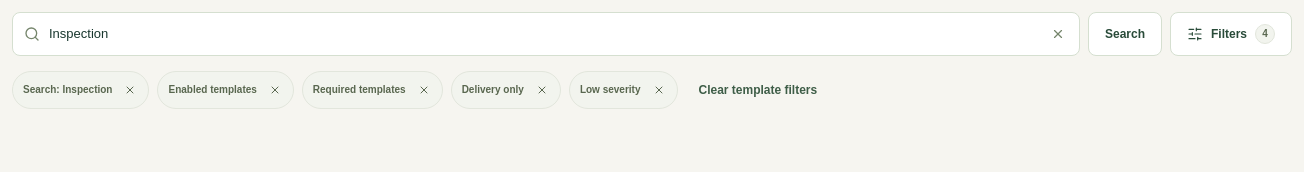
Test: Task template catalog filters › removes one applied criterion independently and clears all committed criteria and drafts explicitly
Click the button named "Remove template service filter" at coordinates (542, 90), box [528,76,556,104]
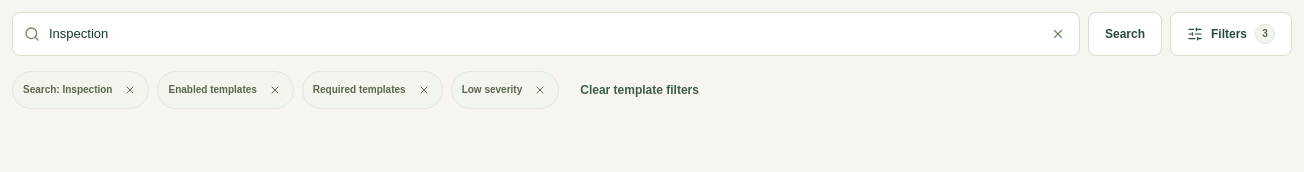
Click the button named "Remove template search filter" at coordinates (130, 90), box [116,76,144,104]
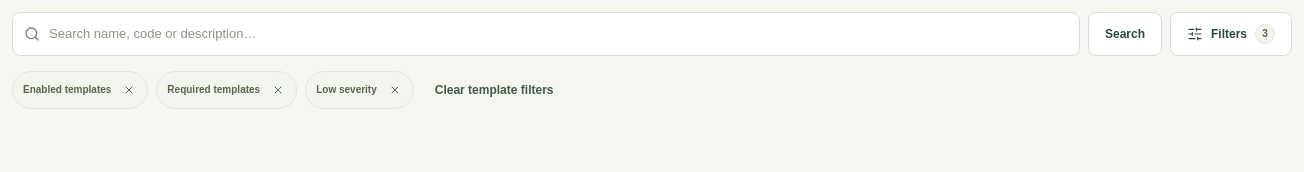
Now the field named "Search templates" is empty
Type "Unsent search" into the field named "Search templates" at coordinates (546, 34), box [12,12,1080,56]
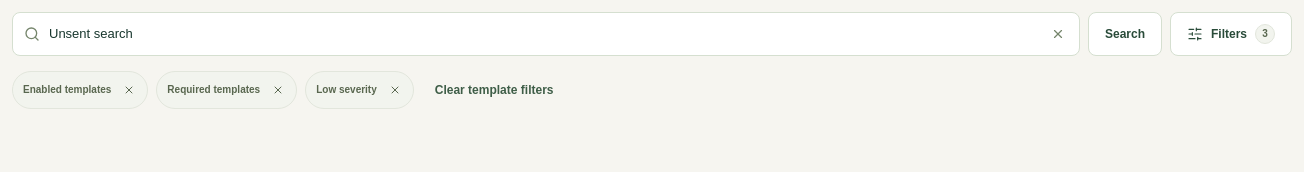
Click the button "Clear template filters" at coordinates (494, 90), box [422,68,566,112]
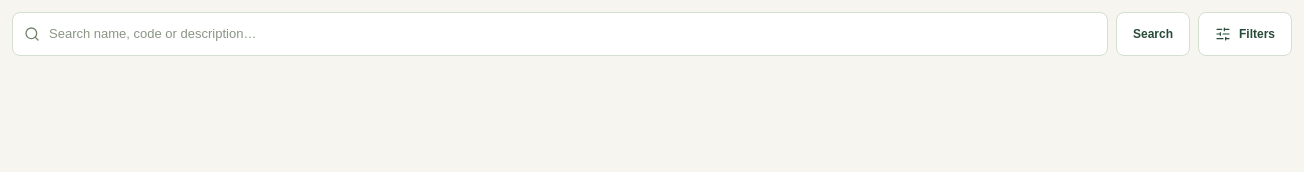
Now the field named "Search templates" is empty, box [12,12,1108,56]
